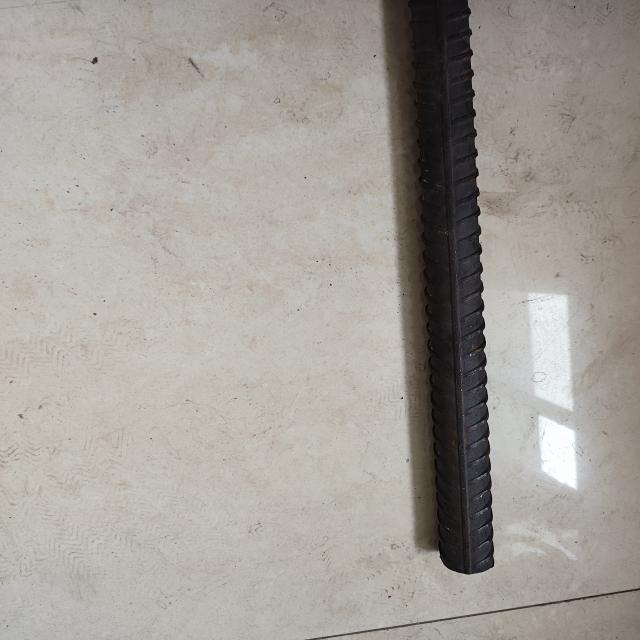ribbed bar: (394, 0, 496, 574)
